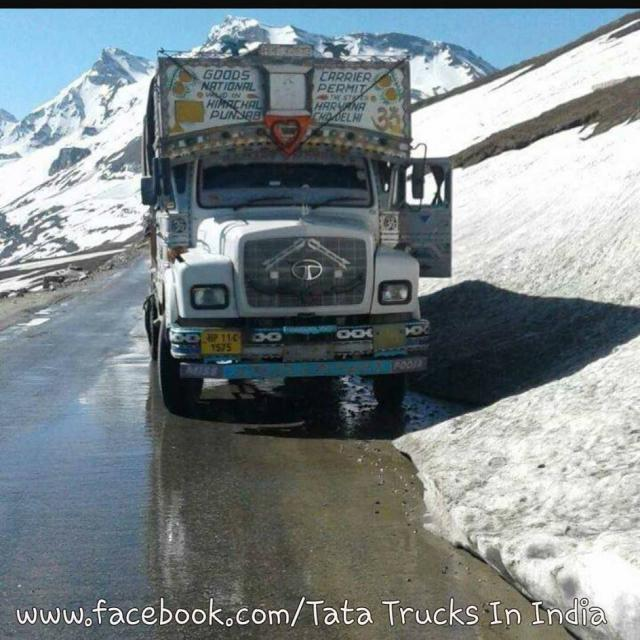truck: (112, 28, 465, 434)
